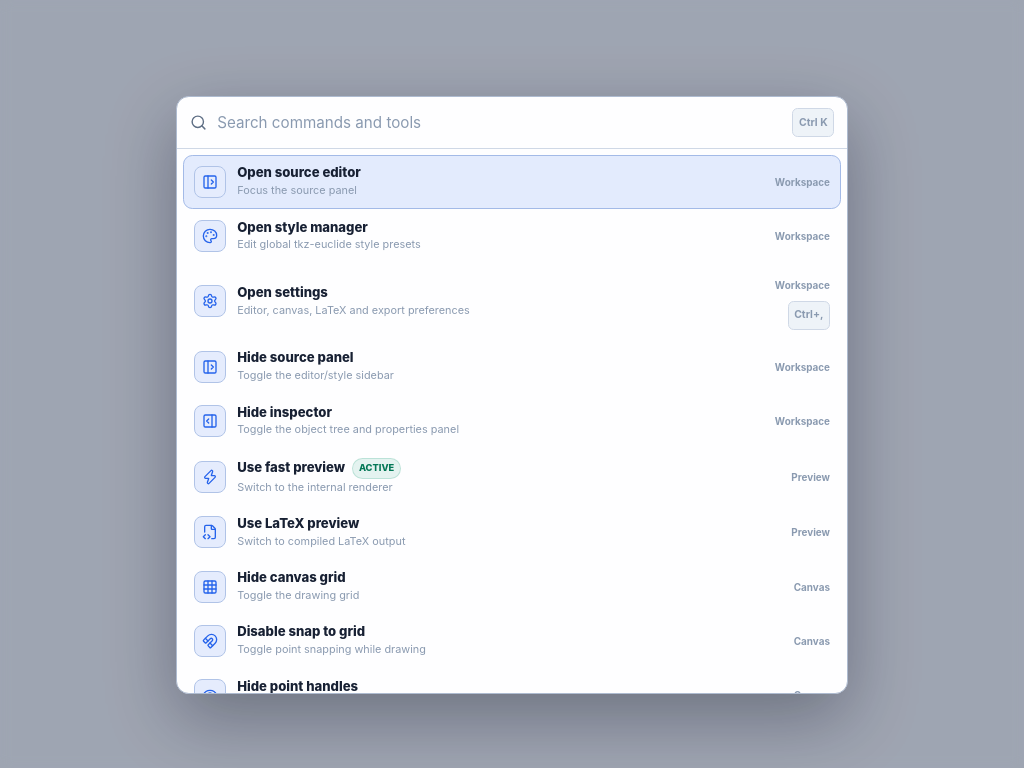
Test case: CommandPalette › indexes toolbar section labels in tool search results
This screenshot has width=1024, height=768.
Type "boolean tests" into the field labelled "Search commands and tools" at (500, 122), box [217,110,782,134]
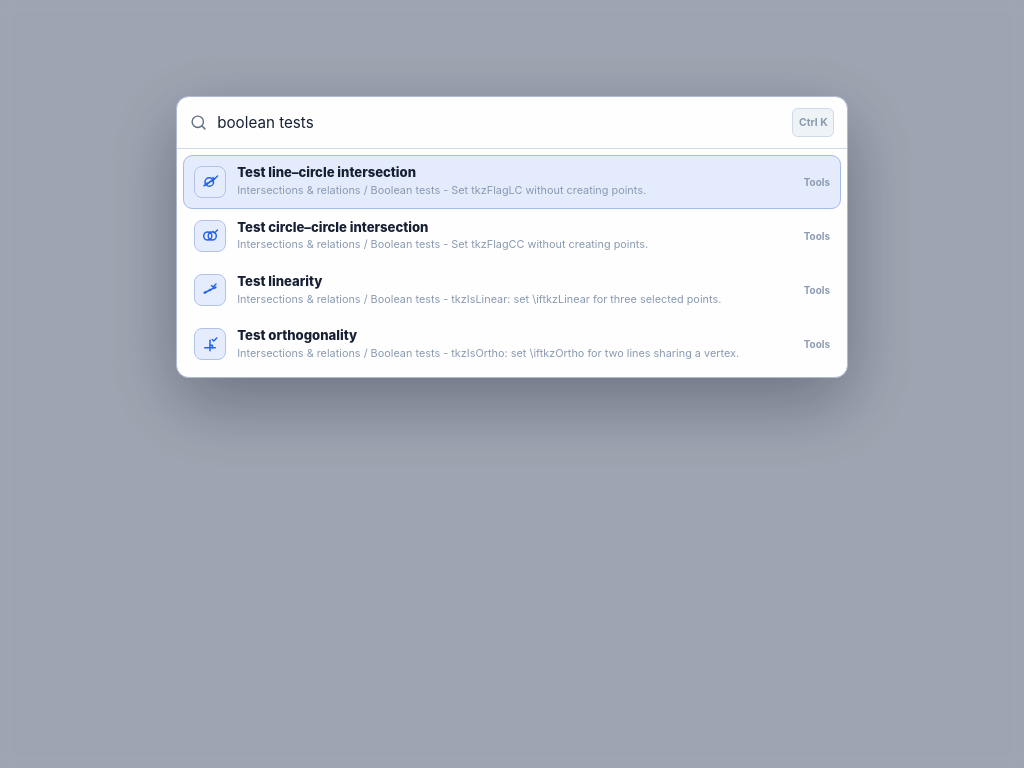
expect the option "Test linearity" shows "Intersections & relations / Boolean tests": met, box [183,263,841,317]
expect the option "Test orthogonality" shows "Intersections & relations / Boolean tests": met, box [183,317,841,371]
